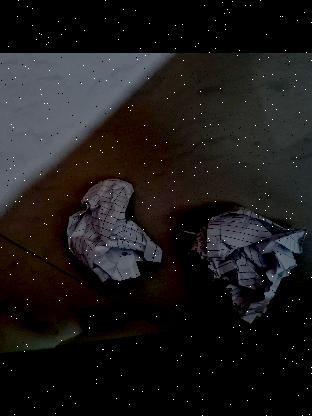Others: (64, 172, 162, 282)
